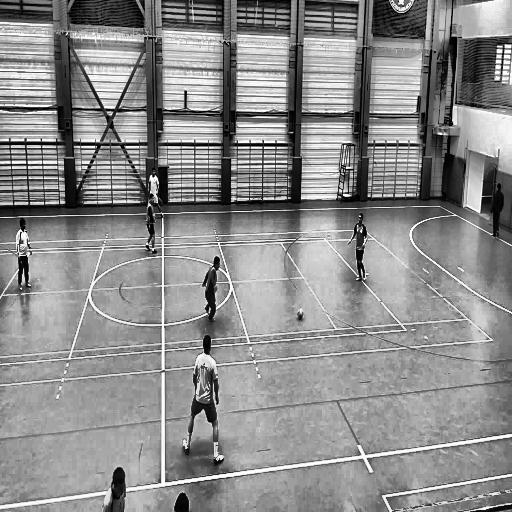ball: (297, 308, 304, 322)
player: (182, 335, 226, 467), (347, 211, 369, 285), (15, 217, 34, 294), (202, 254, 221, 327), (143, 193, 161, 257), (490, 182, 505, 241), (147, 164, 161, 191)
